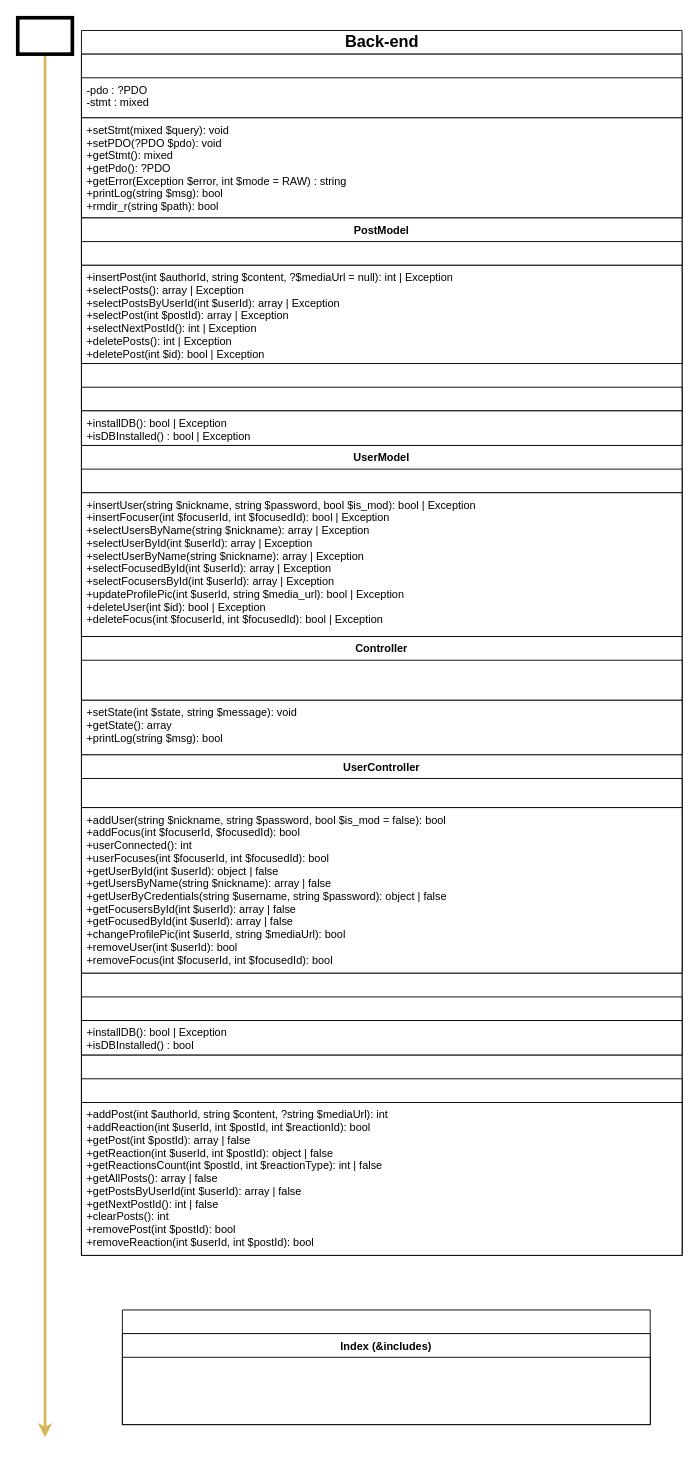
The diagram is 698 pixels wide and 1461 high, and some of its shapes have lost their labels. Here are the shapes that lost their labels. From the top down, the box of each, then its label:
(15, 15, 74, 56): Include order
(81, 53, 682, 218): Model
(81, 363, 682, 445): InstallModel
(81, 659, 682, 700): -int $state = STATE_NONE -string $message
(81, 972, 682, 1055): InstallController
(81, 1054, 682, 1255): PostController
(121, 1309, 650, 1425): Front-end
(121, 1356, 650, 1425): header.php head.php $_GET['page'].php footer.php
